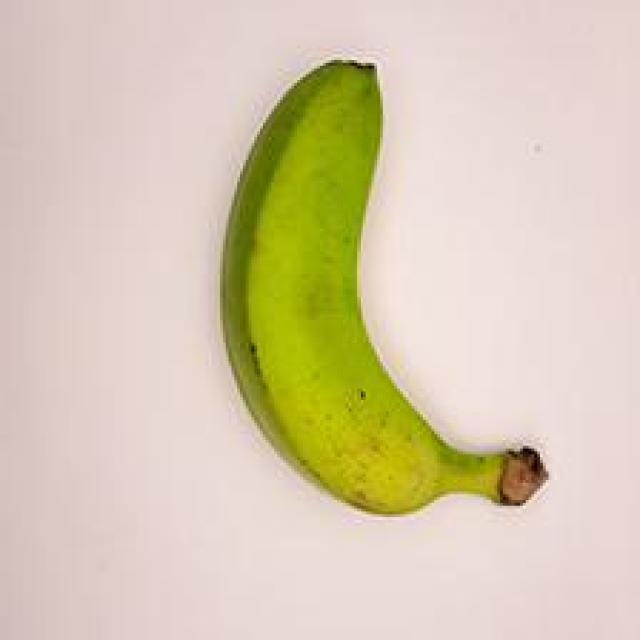Unripe: (210, 48, 556, 554)
